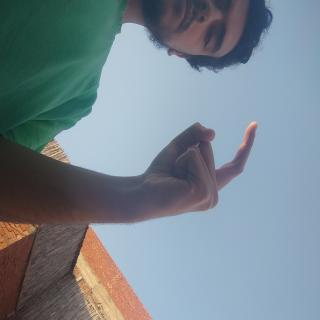RAA: (86, 78, 177, 268)
